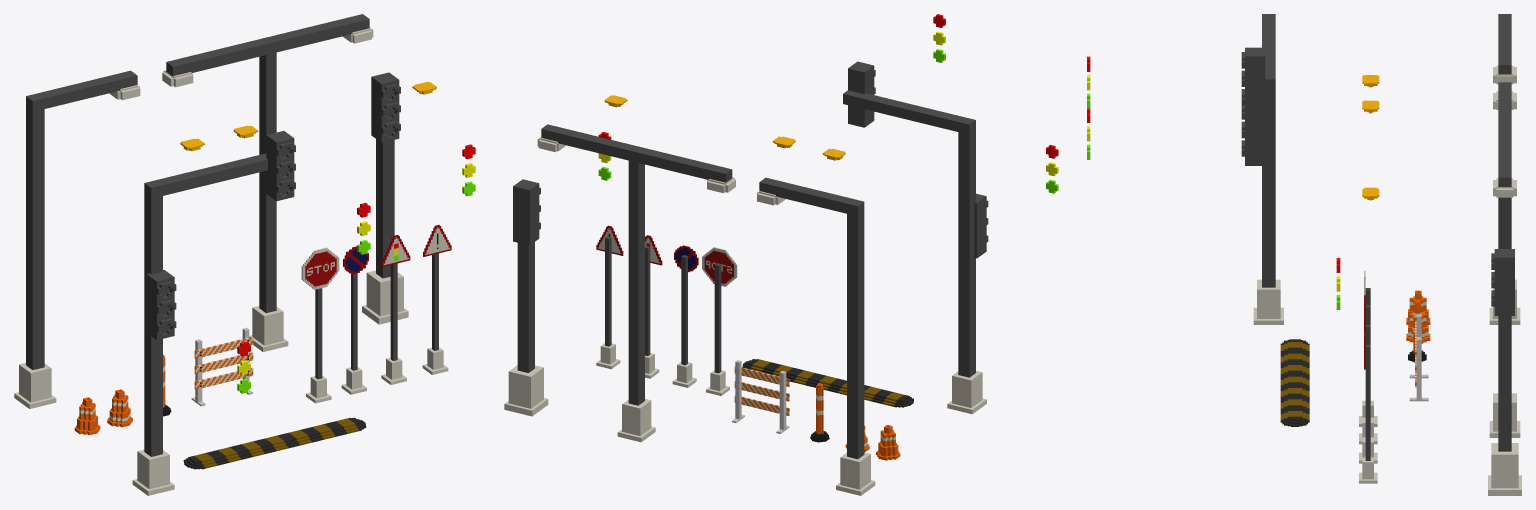
File: traffic signs.obj
3 renders of one model, left to right at view 1: azimuth 30°, elevation 25°; view 2: azimuth 150°, elevation 25°; view 3: azimuth 270°, elevation 25°, orthographic. The views are drawn at different scales.
Bounding box in the file's own units: 25.6 × 21.1 × 25.6.
1 material, 1 textured.
